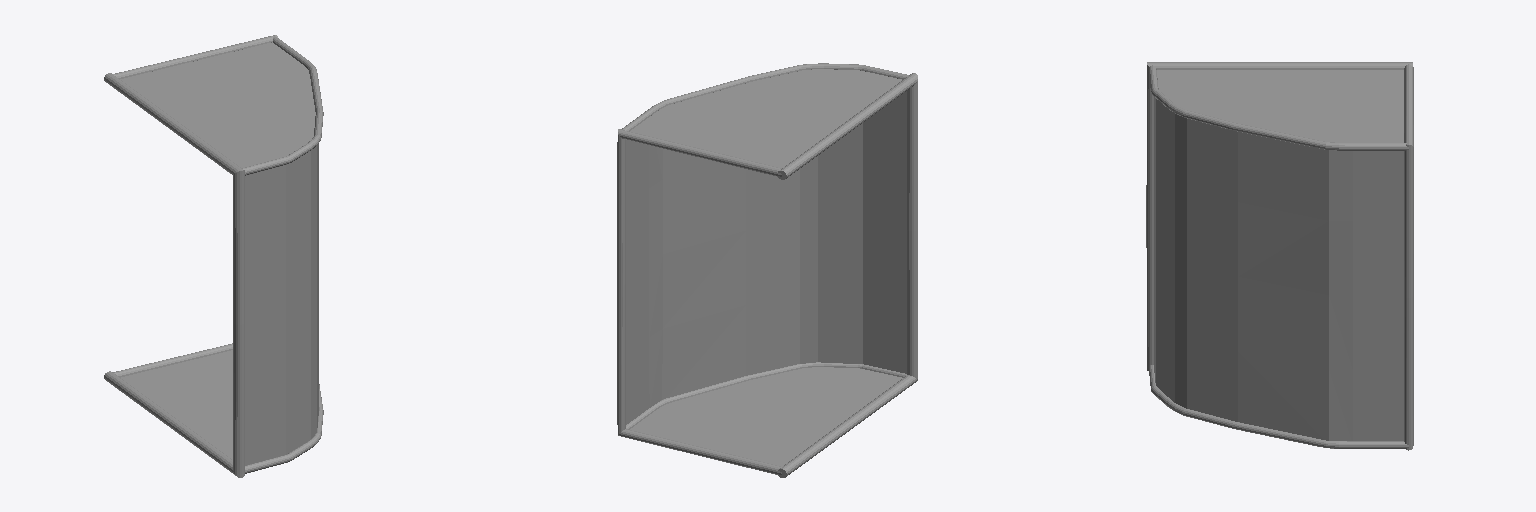
The model's file is goal.obj.
The picture shows the model from 3 angles: view 1: azimuth 30°, elevation 25°; view 2: azimuth 150°, elevation 25°; view 3: azimuth 270°, elevation 25°; orthographic projection.
Visible parts, largest first — view 1: net_Cylinder.001, bae_Cylinder; view 2: net_Cylinder.001, bae_Cylinder; view 3: net_Cylinder.001, bae_Cylinder.
Part boxes in pixels (bbox=[...]): net_Cylinder.001: bbox=[120, 42, 318, 465]; bae_Cylinder: bbox=[104, 35, 323, 477]; net_Cylinder.001: bbox=[626, 69, 906, 466]; bae_Cylinder: bbox=[617, 63, 917, 477]; net_Cylinder.001: bbox=[1154, 70, 1403, 440]; bae_Cylinder: bbox=[1146, 62, 1413, 450].
Size of the model in its own units: 0.8898 by 1.52 by 1.2.